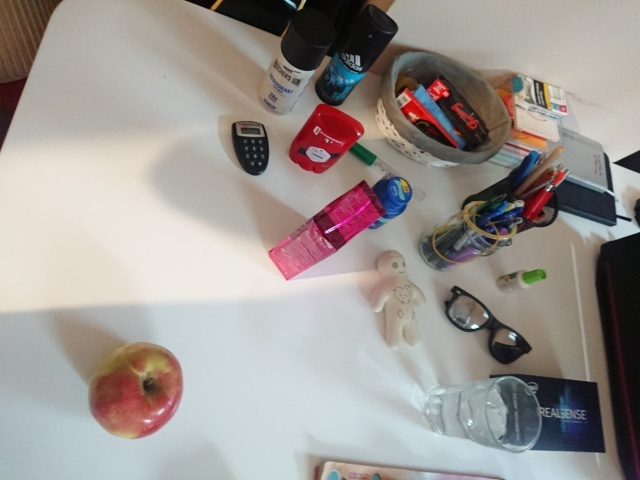Barcaffe Classic Original 225g: (266, 177, 388, 283)
